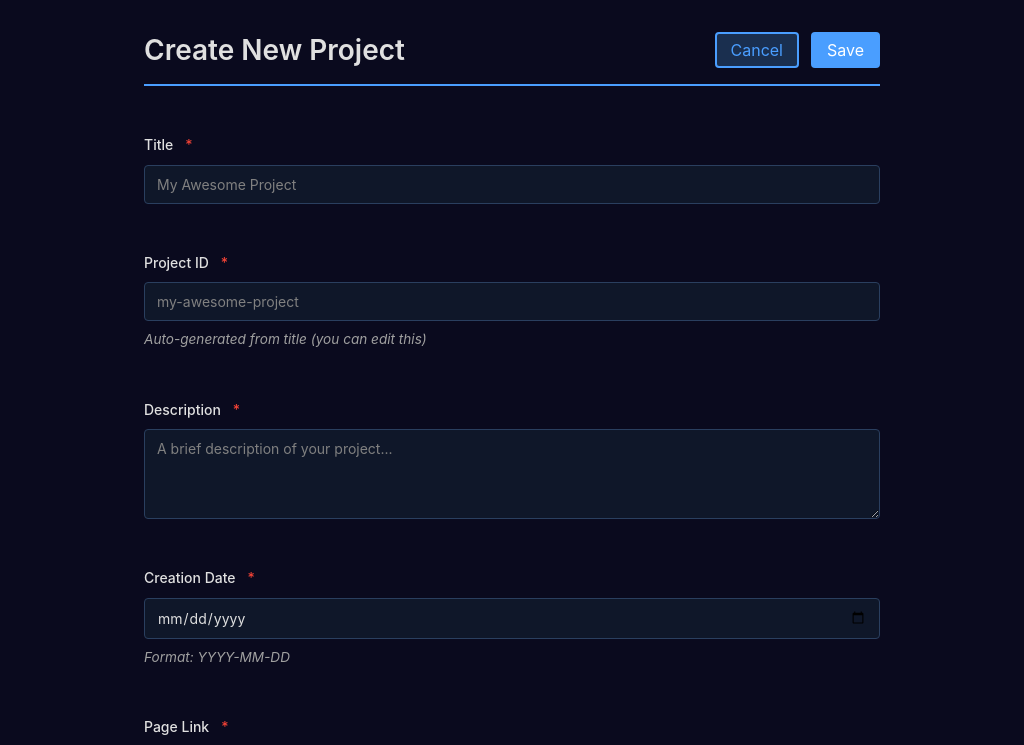
Scenario: ProjectForm › Validation › should show error when required field is empty on blur
Click the field labelled "Title". click: (512, 184)
box: [144,165,880,204]
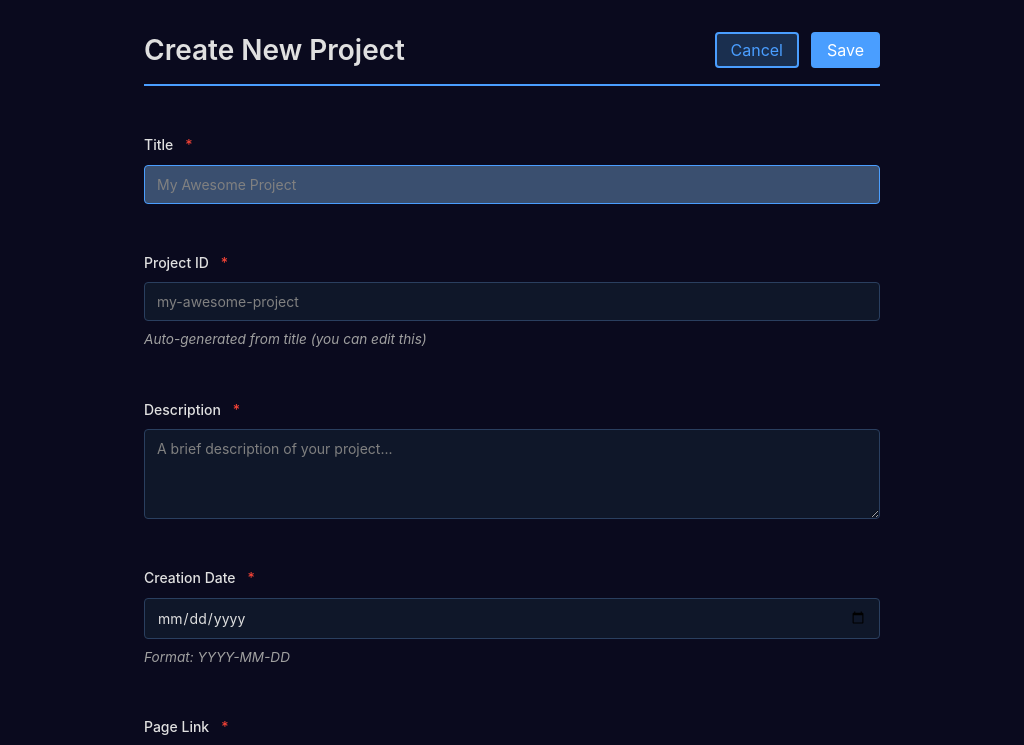
Press Tab
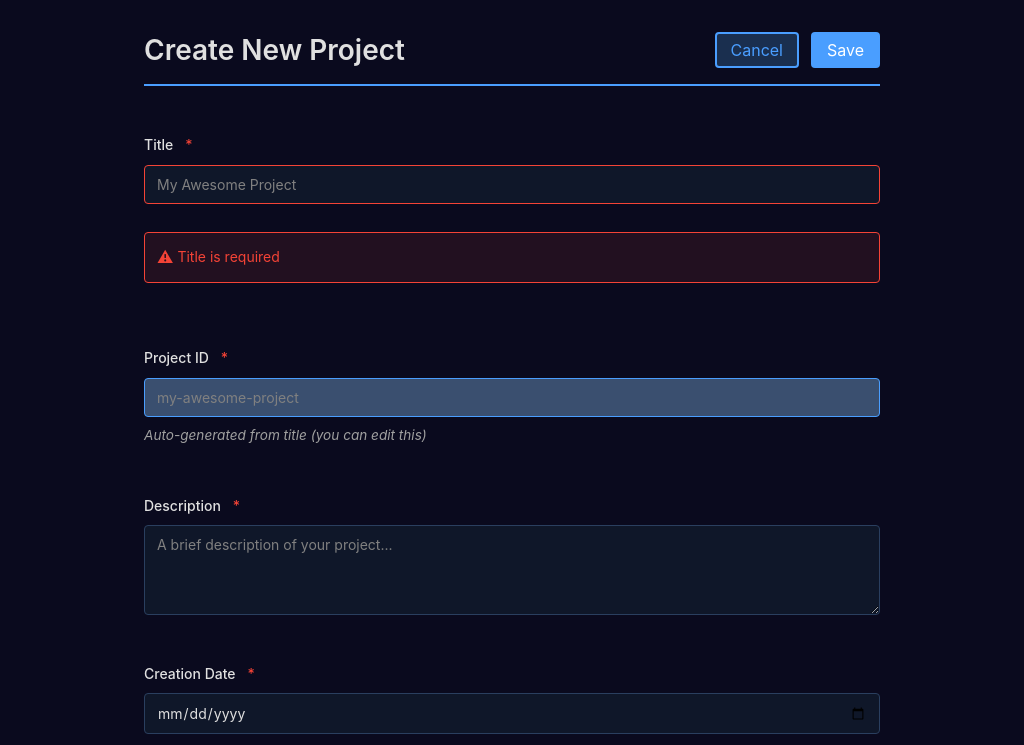
Expected: the text "Title is required" is shown, [144,232,880,283]
